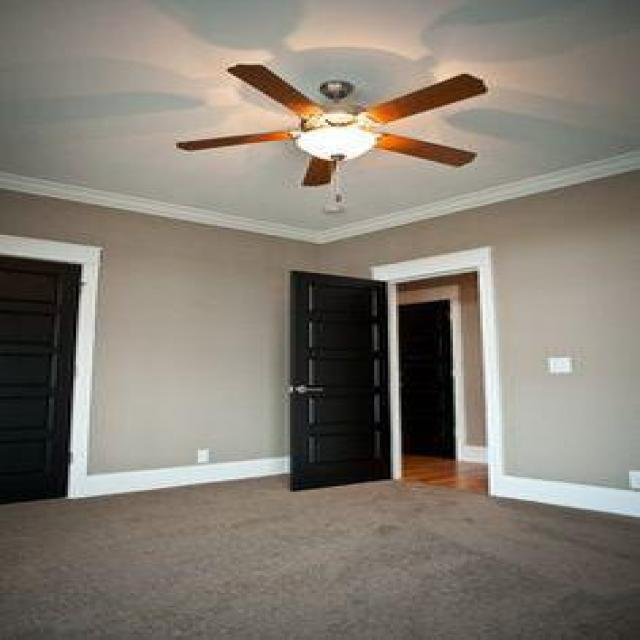other: (235, 99, 417, 192)
